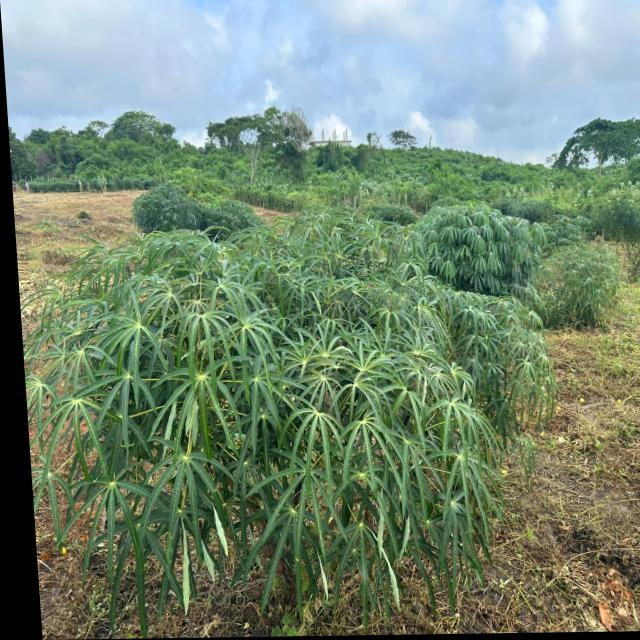Mosca: (108, 437, 139, 458), (282, 391, 301, 409), (289, 550, 308, 567), (348, 543, 367, 559), (277, 378, 291, 394)
